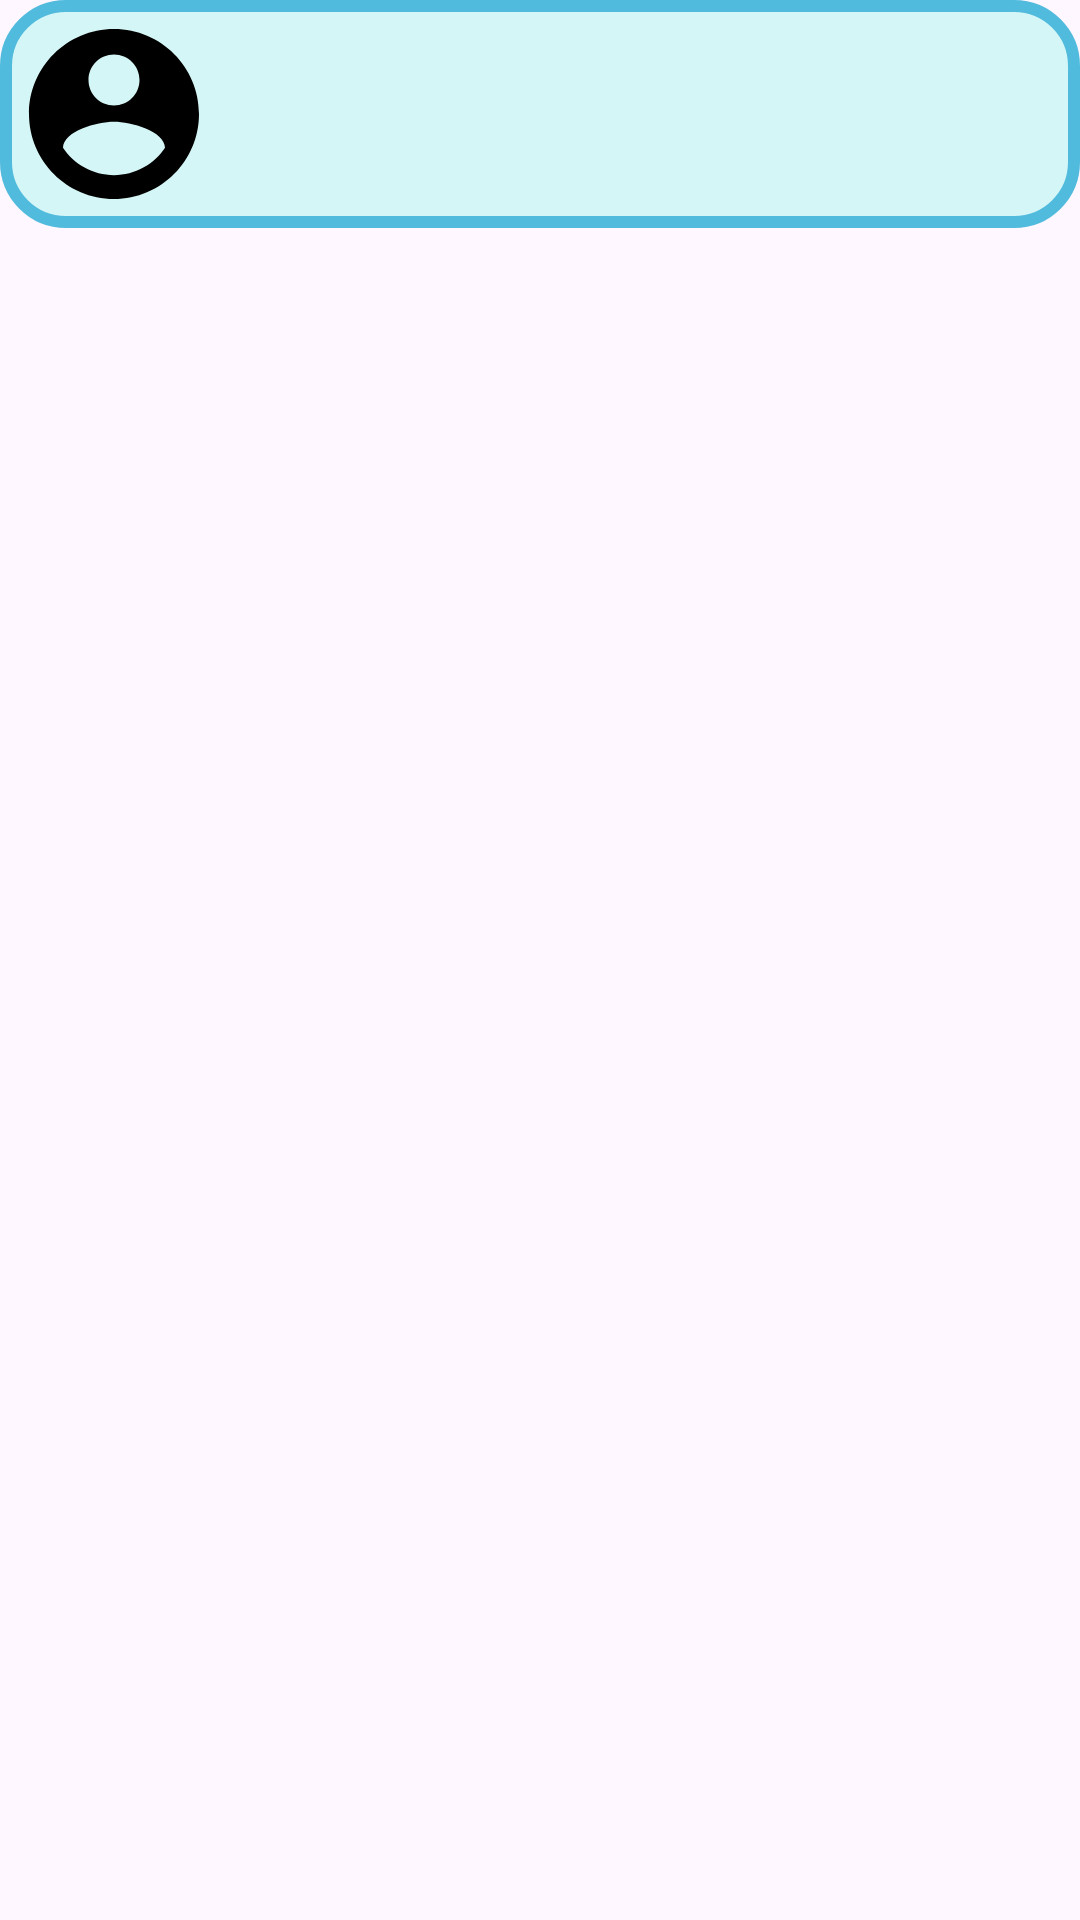

Locate icon controls on the screen. Image size 1080 x 1920, boxes as (x1, y1, x2, y2).
account: (12, 12, 216, 216)
